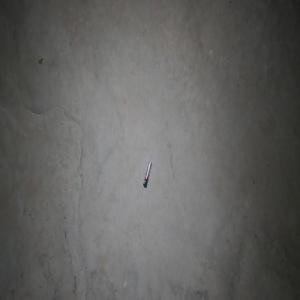Battery: (143, 160, 152, 188)
